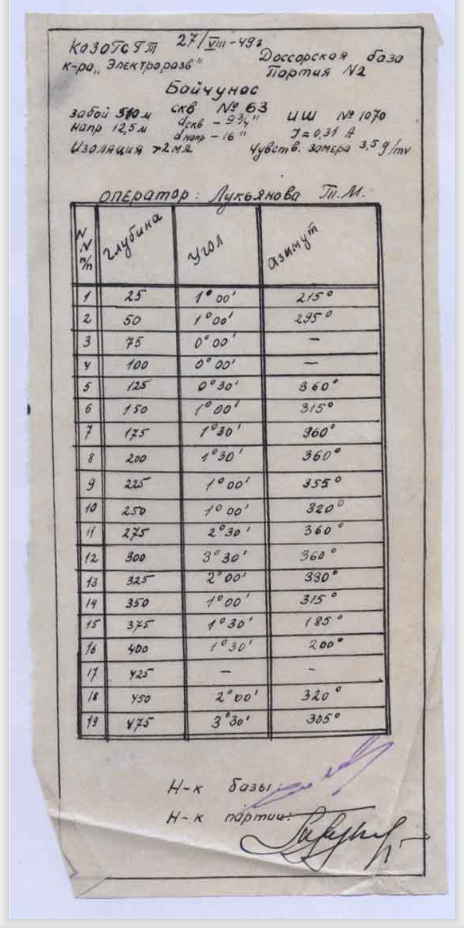Bordered: (70, 201, 389, 735)
